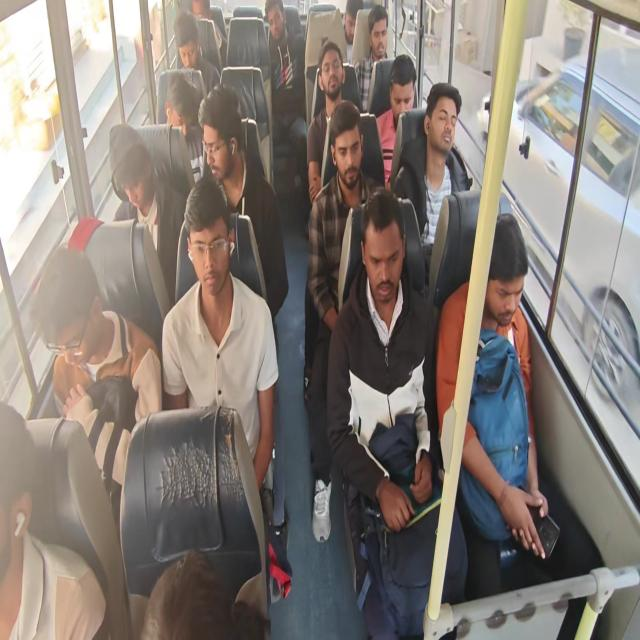person: (0, 402, 39, 603), (32, 259, 102, 362), (482, 218, 526, 324), (182, 209, 228, 298), (108, 131, 154, 212), (363, 217, 405, 305), (200, 118, 242, 191), (330, 120, 369, 194), (162, 77, 198, 144), (429, 83, 458, 153), (389, 61, 413, 125), (172, 24, 203, 73), (320, 49, 343, 98), (343, 0, 363, 51), (369, 6, 390, 51), (264, 2, 285, 46), (188, 1, 212, 28)
